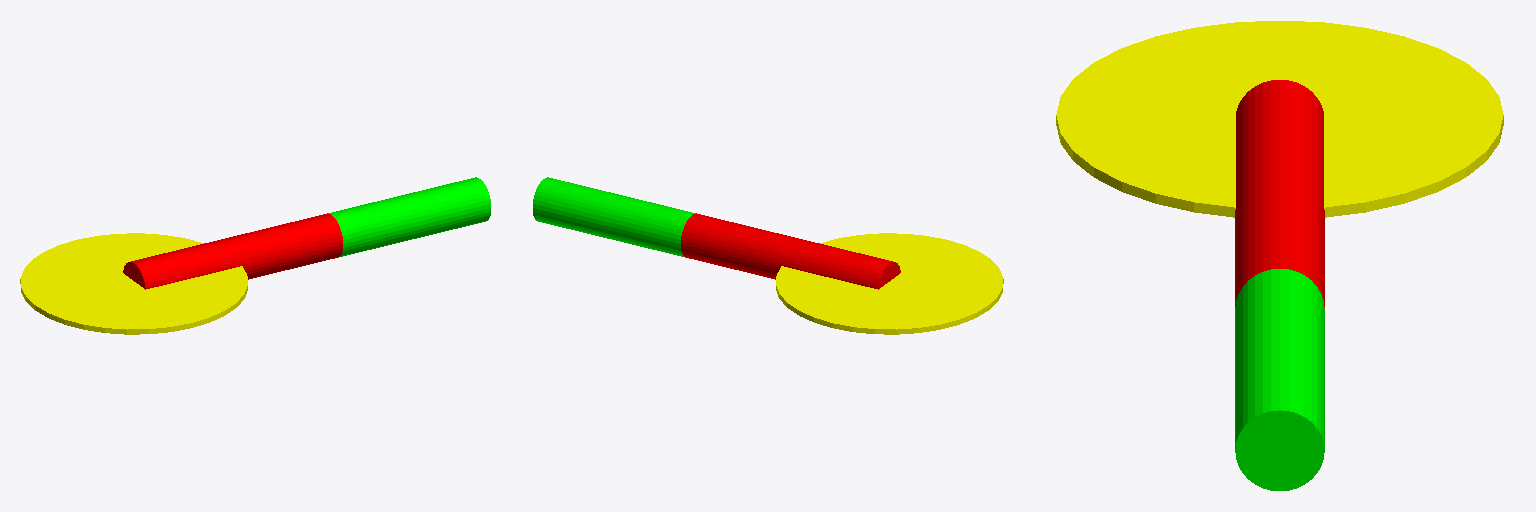
URDF robot description (rr_robot):
<robot name="rr_robot"> <!-- robot name- you decide -->
<!-- sequence : link-joint-link-joint-...-link... -->
<!-- units: meters for distance,rad in case of angles -->
<!-- first link called base_link -->
<link name= "base_link">
	<visual>
		<geometry>
			<cylinder length="0.01" radius="0.2"/>
		</geometry>
		<origin rpy="0 0 0" xyz="0 0 0"/> <!-- rpy: roll pitch yaw -> orientation xyz -> position --> 
		<material name= "base_color">
			<color rgba="1 1 0 1"/> 
		</material>
	</visual>

</link>
<!-- first joint-->
<joint name="joint1" type= "revolute"> <!-- types: revolute and prismatic -->
	<parent link="base_link"/>
	<child link="link1_1"/>
	<origin xyz ="0 0 0"/>
	<axis xyz="0 0 1"/>
	<limit effort="300" velocity="0.1" lower="-3.14159" upper="3.14159"/>
	<dynamics damping="50" friction="1"/>

</joint>
<link name= "link1_1">
	<visual>
		<geometry>
			<cylinder length="0" radius="0.04"/>
		</geometry>
		<origin rpy="0 1.5707 0" xyz="0 0 0"/> <!-- rpy: roll pitch yaw -> orientation xyz -> position --> 
		<material name= "link11_color">
			<color rgba="1 0 0 1"/> 
		</material>
	</visual>

</link>
<joint name="joint1_1" type= "revolute"> <!-- types: revolute and prismatic -->
	<parent link="link1_1"/>
	<child link="link1"/>
	<origin xyz ="0 0 0"/>
	<axis xyz="0 -1 0"/>
	<limit effort="300" velocity="0.1" lower="-3.14159" upper="3.14159"/>
	<dynamics damping="50" friction="1"/>

</joint>
<!-- link1-->
<link name= "link1">
	<visual>
		<geometry>
			<cylinder length="0.4" radius="0.04"/>
		</geometry>
		<origin rpy="0 1.5707 0" xyz="0.2 0 0"/> <!-- rpy: roll pitch yaw -> orientation xyz -> position --> 
		<material name= "link1_color">
			<color rgba="1 0 0 1"/> 
		</material>
	</visual>

</link>


<!-- second joint-->
<joint name="joint2" type= "revolute"> <!-- types: revolute and prismatic -->
	<parent link="link1"/>
	<child link="link2"/>
	<origin xyz ="0.4 0 0"/>
	<axis xyz="0 -1 0"/>
	<limit effort="300" velocity="0.1" lower="-3.14159" upper="3.14159"/>
	<dynamics damping="50" friction="1"/>

</joint>
<!-- link2-->
<link name= "link2">
	<visual>
		<geometry>
			<cylinder length="0.3" radius="0.04"/>
		</geometry>
		<origin rpy="0 1.5707 0" xyz="0.15 0 0"/> <!-- rpy: roll pitch yaw -> orientation xyz -> position --> 
		<material name= "link2_color">
			<color rgba="0 1 0 1"/> 
		</material>
	</visual>

</link>
<!-- third joint-->
<joint name="joint3" type= "fixed"> <!-- types: revolute and prismatic -->
	<parent link="link2"/>
	<child link="link3"/>
	<origin xyz ="0.3 0 0"/>
	<axis xyz="0 -1 0"/>
	<limit effort="300" velocity="0.1" lower="-3.14159" upper="3.14159"/>
	<dynamics damping="50" friction="1"/>

</joint>
<!-- link3-->
<link name= "link3">
	<visual>
		<geometry>
			<cylinder length="0" radius="0.04"/>
		</geometry>
		<origin rpy="0 1.5707 0" xyz="0 0 0"/> <!-- rpy: roll pitch yaw -> orientation xyz -> position --> 
		<material name= "link3_color">
			<color rgba="0 1 0 1"/> 
		</material>
	</visual>

</link>

</robot>

--- What the picture shows (computed from the rendered views, not written in the file) ---
Views: 3 orthographic renders of the robot side by side, from view 1: azimuth 30°, elevation 25°; view 2: azimuth 150°, elevation 25°; view 3: azimuth 270°, elevation 25°.
Robot: rr_robot — 5 links, 4 joints (3 revolute, 1 fixed); root link base_link; default pose: every joint at zero.
Visible links, largest first — view 1: base_link, link1, link2; view 2: base_link, link1, link2; view 3: base_link, link2, link1, link3.
Boxes of the visible links, x1,y1,x2,y2 form: base_link: (20,233,247,334); link1: (123,213,342,288); link2: (328,177,490,257); base_link: (776,233,1003,334); link1: (681,213,900,288); link2: (533,177,695,257); base_link: (1056,21,1503,217); link2: (1235,269,1324,490); link1: (1235,80,1324,306); link3: (1235,410,1324,490).
Bounding box of the posed robot: 0.9 × 0.4 × 0.08 m (x, y, z).
Geometry: primitives only (box / cylinder / sphere), no mesh files.